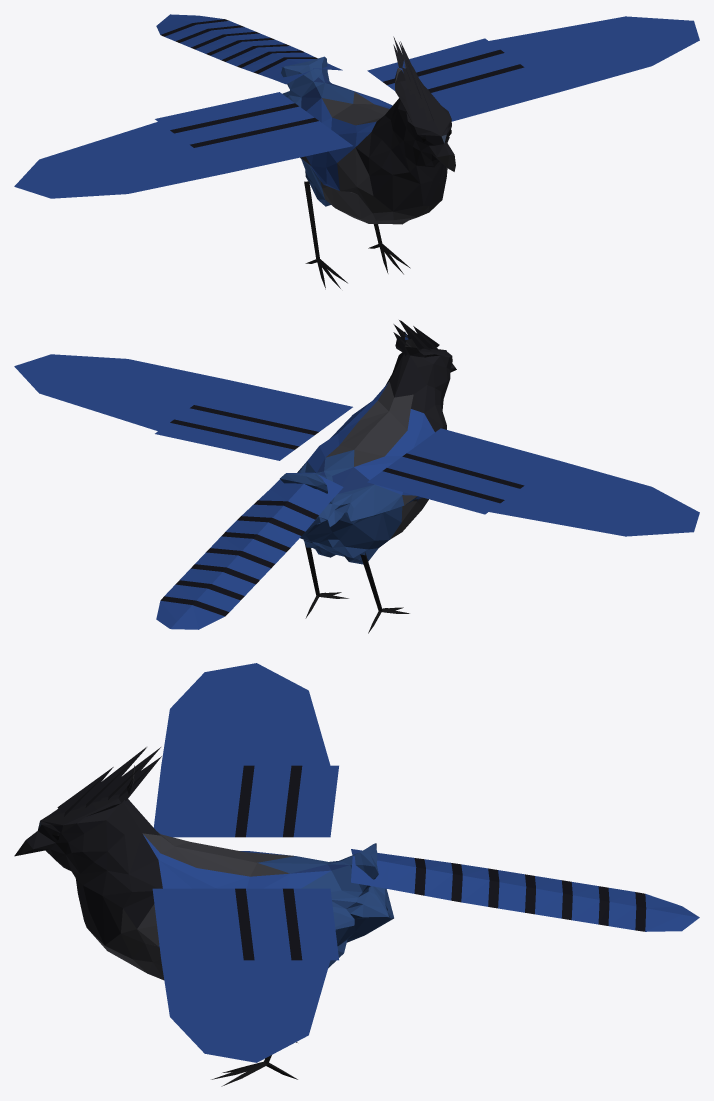
File: stellersjay.glb
The picture shows the model from 3 angles, top to bottom: view 1: azimuth 30°, elevation 25°; view 2: azimuth 150°, elevation 25°; view 3: azimuth 270°, elevation 25°; orthographic projection. The views are drawn at different scales.
Visible parts, largest first — view 1: lod0; view 2: lod0; view 3: lod0.
Boxes of the visible parts, <box> form: lod0: <box>14,14,699,289</box>; lod0: <box>14,320,699,633</box>; lod0: <box>14,663,699,1086</box>.
Size of what is drawn, in the model's own units: 0.436 by 0.1604 by 0.3161.
